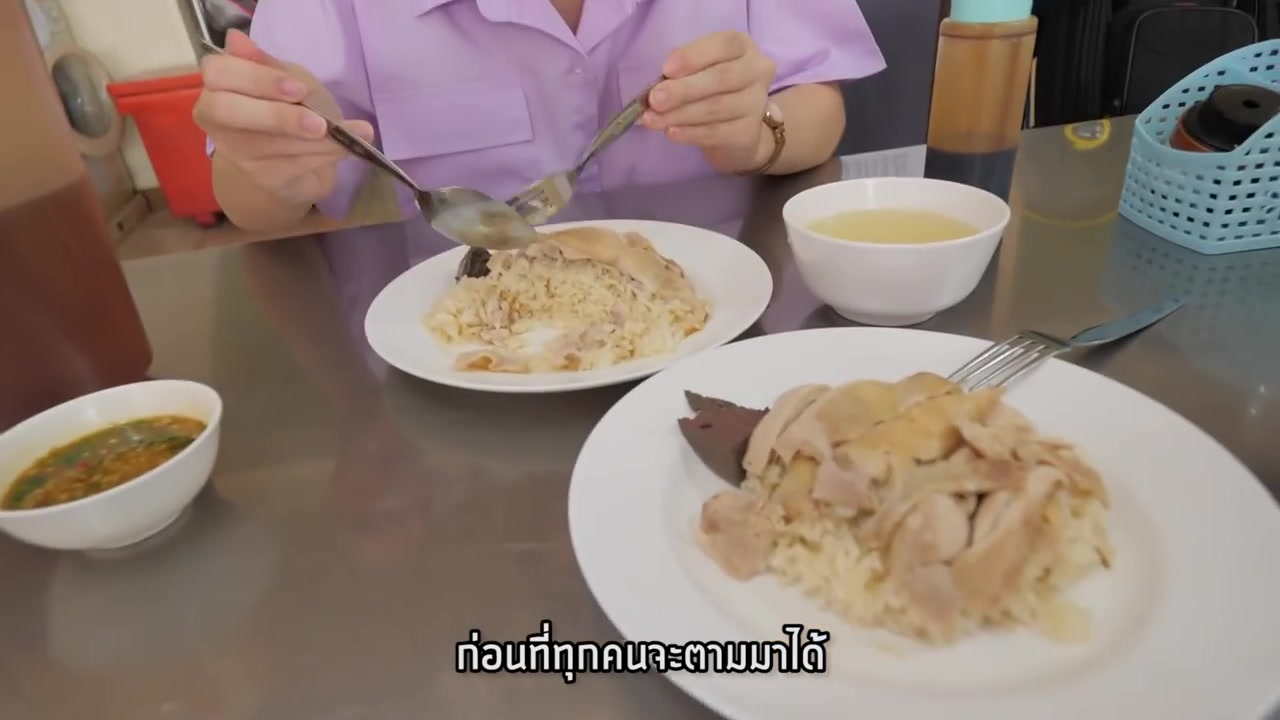text-label: (448, 620, 833, 685)
